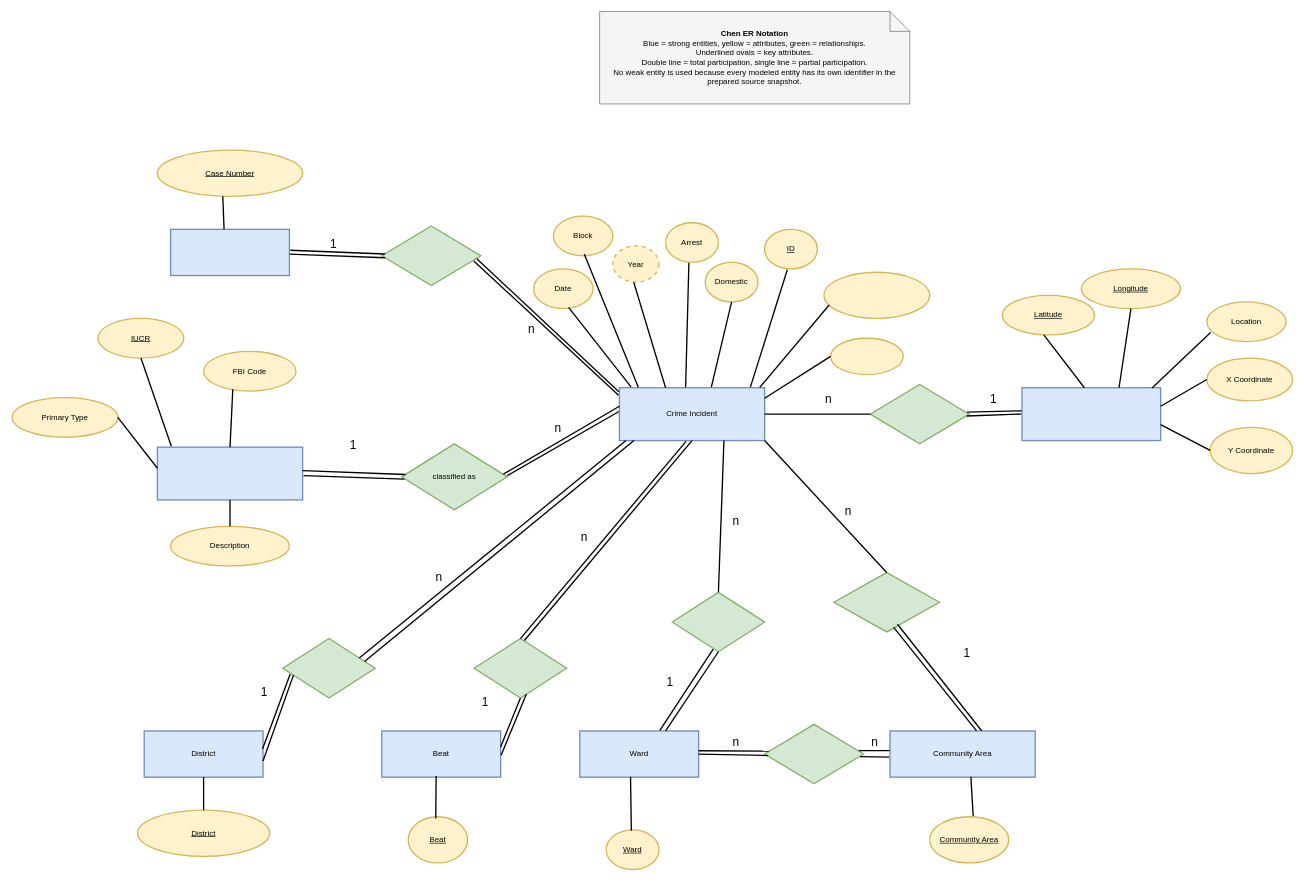
This 1304x882 diagram has some shape labels left out. The centre of each missing label's shape, as x and y in pixels:
"assigned to" belongs at (x=520, y=668).
"belongs to" belongs at (x=431, y=255).
"Case File" belongs at (x=230, y=252).
"Coordinate Point" belongs at (x=1091, y=414).
"falls in" belongs at (x=886, y=602).
"located at" belongs at (x=919, y=413).
"Location Description" belongs at (x=876, y=295).
"Offense Definition" belongs at (x=229, y=473).
"overlaps" belongs at (x=814, y=753).
"reported in" belongs at (x=329, y=668).
"represented by" belongs at (x=718, y=621).
"Updated On" belongs at (x=867, y=356).
